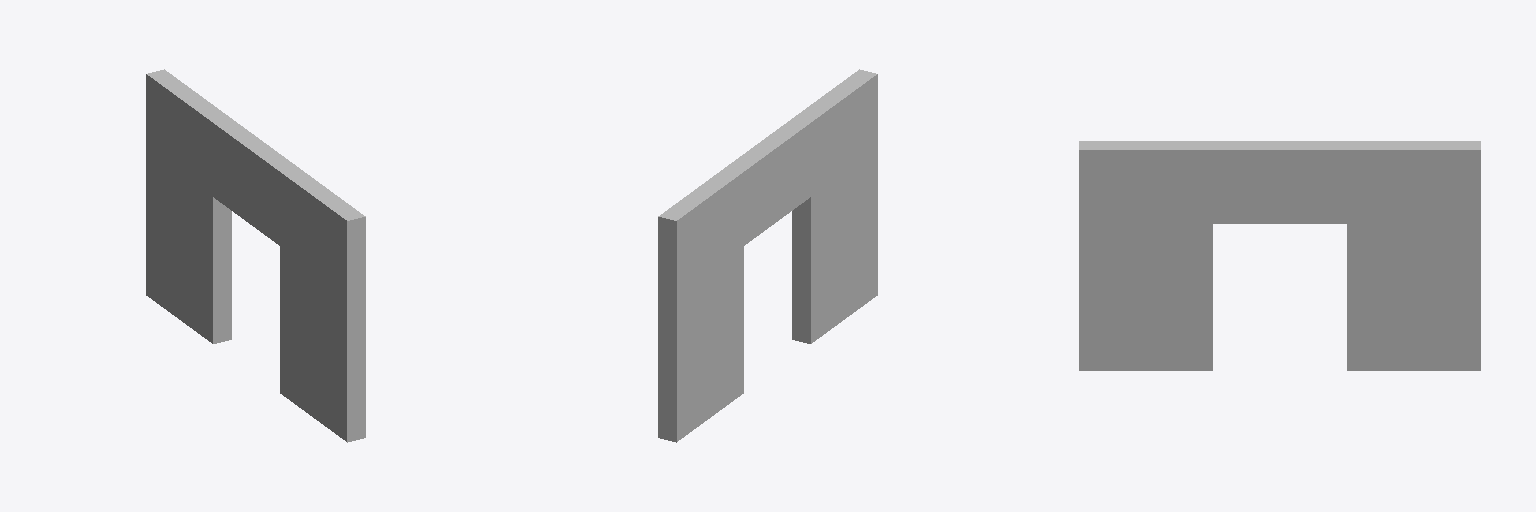
Rendered from wallDoor.obj.
3 views of the same model, side by side, from view 1: azimuth 30°, elevation 25°; view 2: azimuth 150°, elevation 25°; view 3: azimuth 270°, elevation 25° (orthographic).
Visible parts, largest first — view 1: wallDoor; view 2: wallDoor; view 3: wallDoor.
Part boxes in pixels (bbox=[...]): wallDoor: bbox=[146, 69, 365, 442]; wallDoor: bbox=[658, 69, 877, 442]; wallDoor: bbox=[1079, 141, 1480, 370].
Size of the model in its own units: 89.45 by 1030 by 1695.